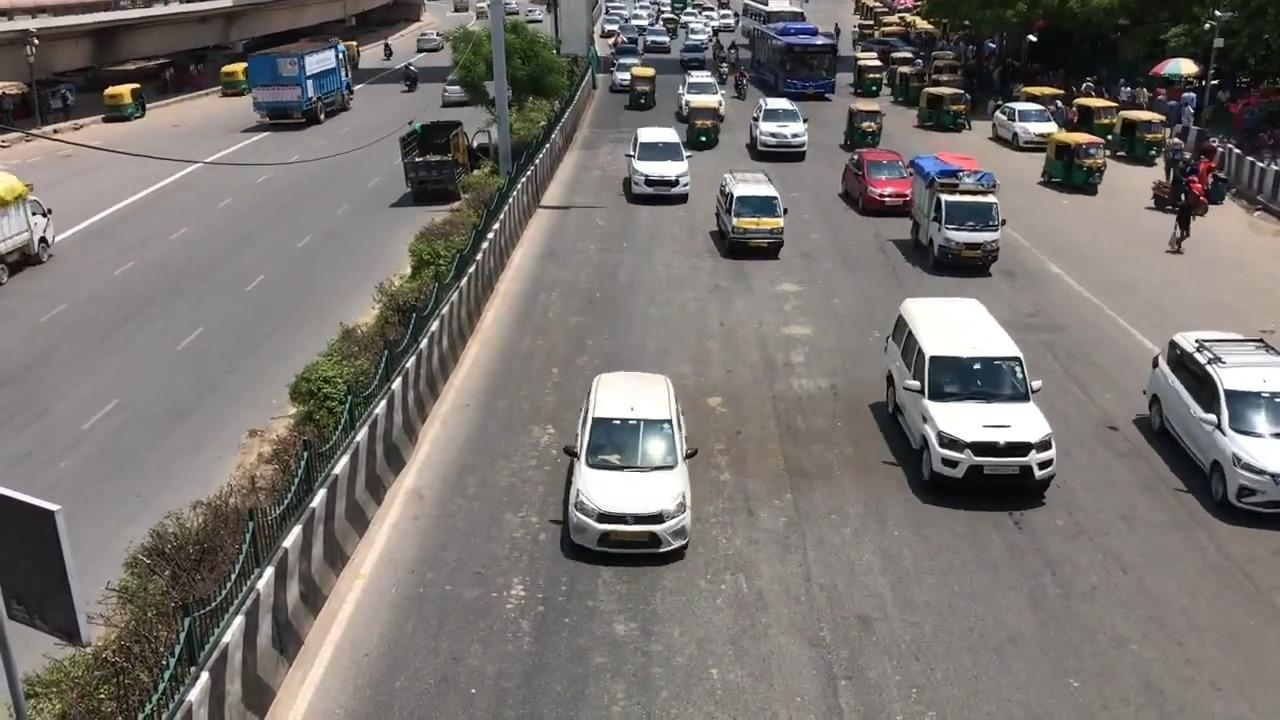Bus: (748, 20, 838, 99)
Car: (882, 295, 1056, 488)
Truck: (909, 151, 1006, 271), (246, 34, 355, 124), (0, 171, 55, 285), (398, 119, 472, 203)
